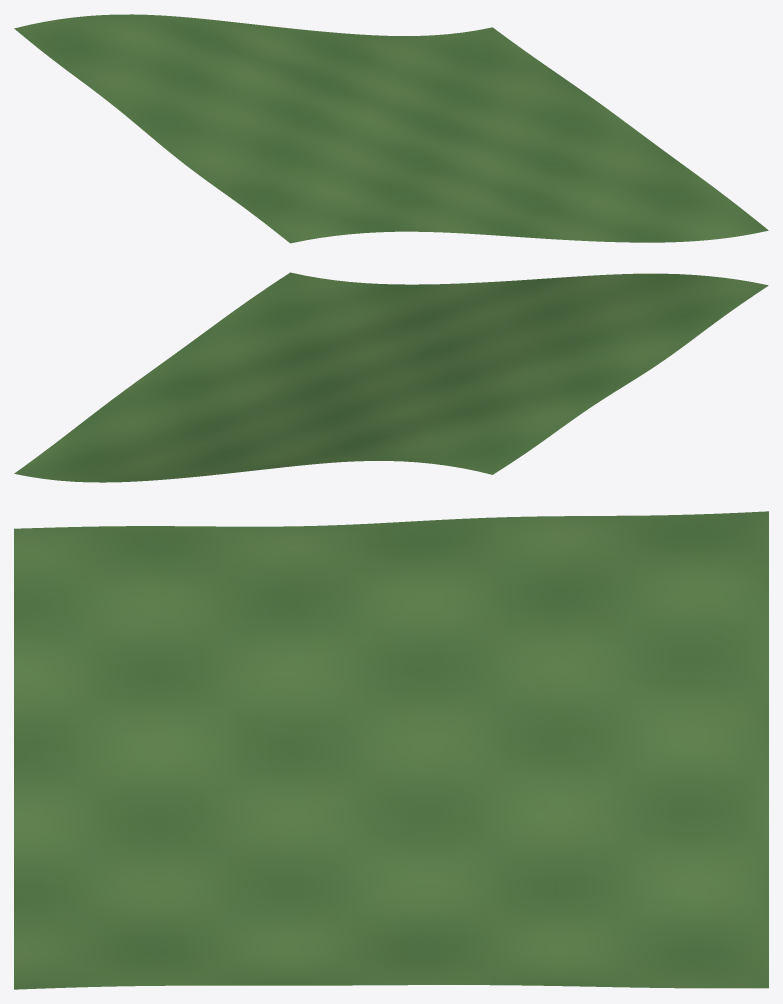
File: chunk_0_7.glb
3 renders of one model, top to bottom at view 1: azimuth 30°, elevation 25°; view 2: azimuth 150°, elevation 25°; view 3: azimuth 270°, elevation 25°, orthographic. The views are drawn at different scales.
Bounding box in the file's own units: 512 × 119 × 512.
